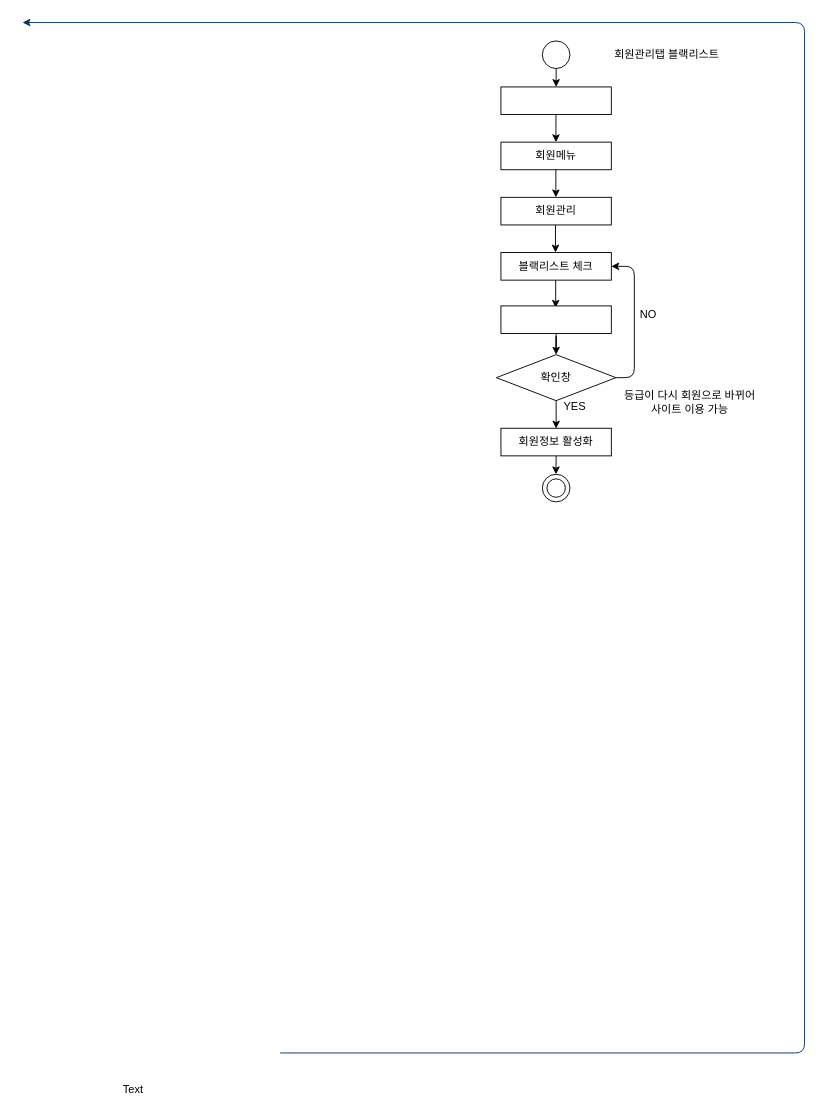
This 828x1115 diagram has some shape labels left out. Each missing label, with the box of its shape:
관리자 페이지: (500, 86, 611, 115)
블랙리스트 해제버튼: (500, 305, 611, 334)
